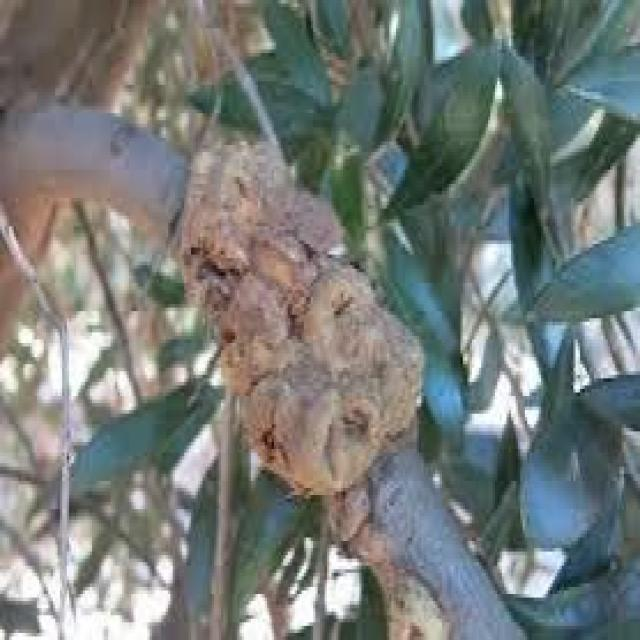Tuberculosis: (184, 142, 466, 636)
